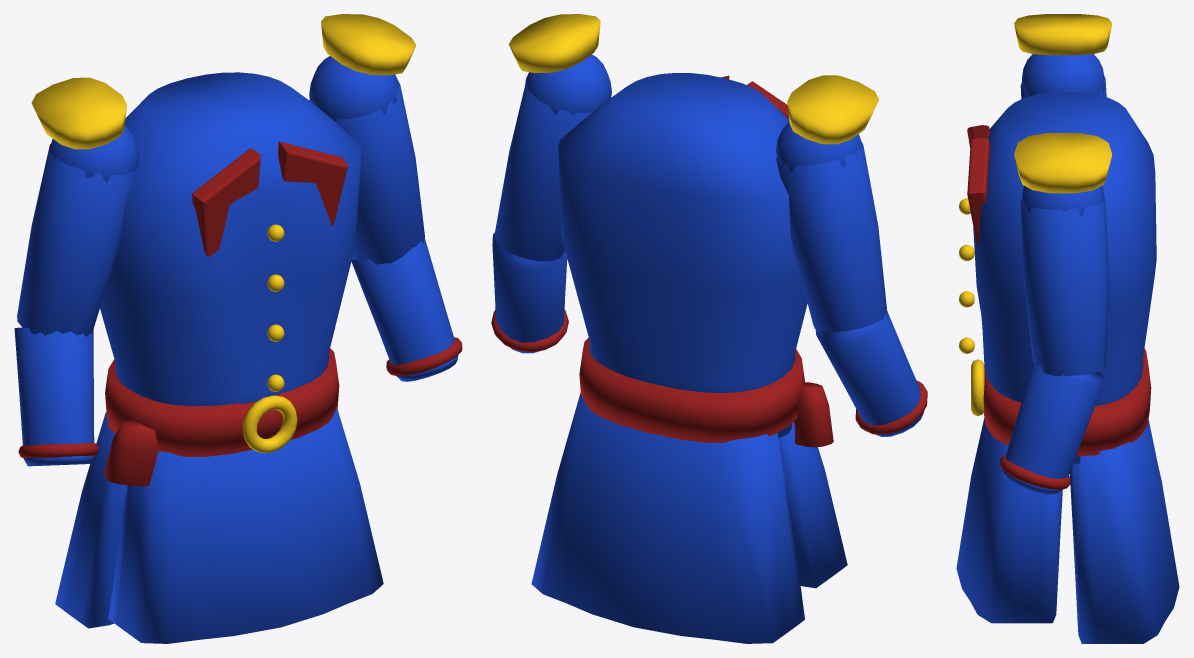
The model's file is captain.glb.
The picture shows the model from 3 angles, left to right: view 1: azimuth 30°, elevation 25°; view 2: azimuth 150°, elevation 25°; view 3: azimuth 270°, elevation 25°; orthographic projection. The views are drawn at different scales.
Visible parts, largest first — view 1: garment_torso, garment_skirt_front, upper_sleeve_r, belt_strap, upper_sleeve_l, forearm_sleeve_r, forearm_sleeve_l, garment_skirt_back, epaulet_-1, epaulet_1, sleeve_shoulder_l, lapel_-1 (+6 smaller); view 2: garment_torso, garment_skirt_back, upper_sleeve_r, belt_strap, upper_sleeve_l, forearm_sleeve_r, garment_skirt_front, forearm_sleeve_l, epaulet_-1, epaulet_1, sleeve_shoulder_l, sleeve_shoulder_r (+3 smaller); view 3: garment_torso, garment_skirt_back, garment_skirt_front, upper_sleeve_l, forearm_sleeve_l, epaulet_1, belt_strap, epaulet_-1, sleeve_shoulder_r, lapel_1, sleeve_shoulder_l, wrist_cuff_l (+1 smaller).
Boxes of the visible parts, x1,y1,x2,y2 form: garment_torso: [100, 72, 361, 406]; garment_skirt_front: [108, 408, 383, 643]; upper_sleeve_r: [17, 144, 136, 336]; belt_strap: [105, 348, 339, 456]; upper_sleeve_l: [309, 82, 424, 264]; forearm_sleeve_r: [14, 327, 94, 466]; forearm_sleeve_l: [351, 238, 458, 381]; garment_skirt_back: [55, 412, 127, 628]; epaulet_-1: [31, 77, 126, 149]; epaulet_1: [321, 14, 416, 75]; sleeve_shoulder_l: [309, 56, 398, 121]; lapel_-1: [192, 148, 260, 256]; garment_torso: [558, 73, 807, 438]; garment_skirt_back: [531, 393, 804, 643]; upper_sleeve_r: [776, 141, 887, 332]; belt_strap: [579, 337, 804, 442]; upper_sleeve_l: [495, 84, 591, 261]; forearm_sleeve_r: [815, 311, 924, 436]; garment_skirt_front: [778, 422, 847, 588]; forearm_sleeve_l: [492, 232, 567, 353]; epaulet_-1: [787, 75, 878, 144]; epaulet_1: [508, 14, 600, 73]; sleeve_shoulder_l: [524, 54, 611, 115]; sleeve_shoulder_r: [776, 121, 862, 172]; garment_torso: [973, 92, 1156, 464]; garment_skirt_back: [1069, 419, 1179, 643]; garment_skirt_front: [956, 418, 1062, 623]; upper_sleeve_l: [1020, 199, 1109, 375]; forearm_sleeve_l: [1002, 363, 1104, 494]; epaulet_1: [1014, 133, 1112, 193]; belt_strap: [983, 348, 1151, 456]; epaulet_-1: [1014, 14, 1112, 55]; sleeve_shoulder_r: [1022, 54, 1104, 96]; lapel_1: [967, 138, 990, 245]; sleeve_shoulder_l: [1022, 185, 1104, 216]; wrist_cuff_l: [1000, 454, 1070, 489].
Bounding box in the file's own units: 0.6892 × 0.8147 × 0.3267.
